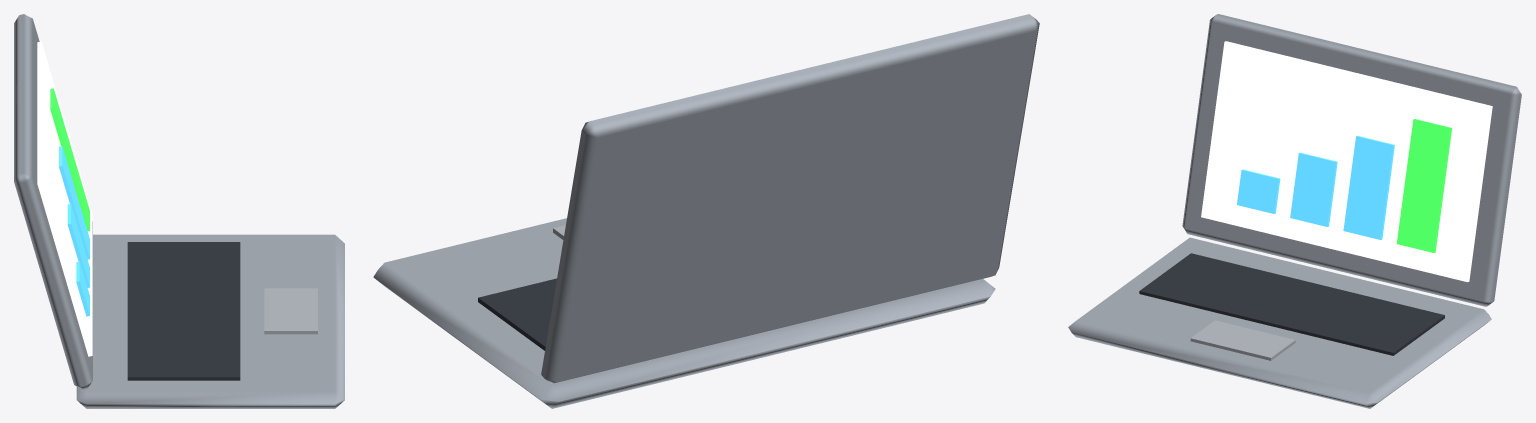
The model's file is station_special_ausstattung_1_0.glb.
3 renders of one model, left to right at view 1: azimuth 30°, elevation 25°; view 2: azimuth 150°, elevation 25°; view 3: azimuth 270°, elevation 25°, orthographic. The views are drawn at different scales.
Parts seen in each view (by area): view 1: station_special_ausstattung_1_0; view 2: station_special_ausstattung_1_0; view 3: station_special_ausstattung_1_0.
Boxes of the visible parts, box(x1,y1,x2,y2) form: station_special_ausstattung_1_0: box(14, 14, 344, 408); station_special_ausstattung_1_0: box(373, 14, 1039, 408); station_special_ausstattung_1_0: box(1068, 14, 1521, 408).
Bounding box in the file's own units: 0.3881 × 0.2148 × 0.406.
